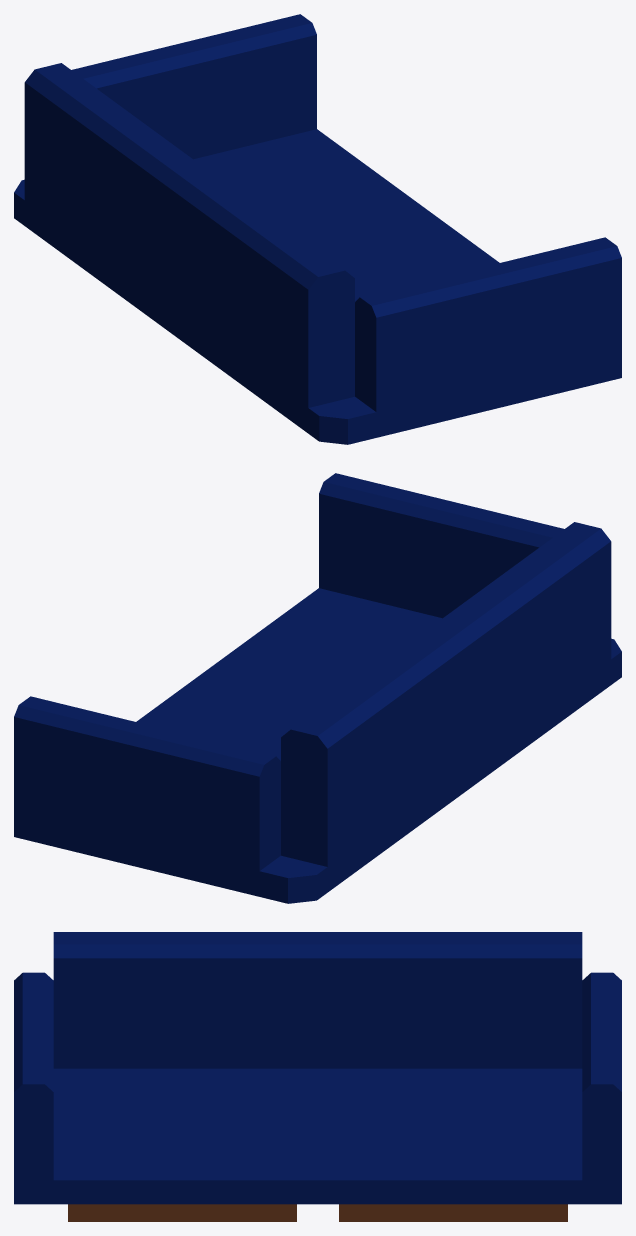
Rendered from Sofa.fbx.
3 views of the same model, one above another, from view 1: azimuth 30°, elevation 25°; view 2: azimuth 150°, elevation 25°; view 3: azimuth 270°, elevation 25° (orthographic). The views are drawn at different scales.
Parts seen in each view (by area): view 1: Sofa; view 2: Sofa; view 3: Sofa.
Part boxes in pixels (x1,y1,x2,y2): Sofa: (14,14,621,444); Sofa: (14,473,621,903); Sofa: (14,932,621,1221).
Bounding box in the file's own units: 238 × 140 × 460.
